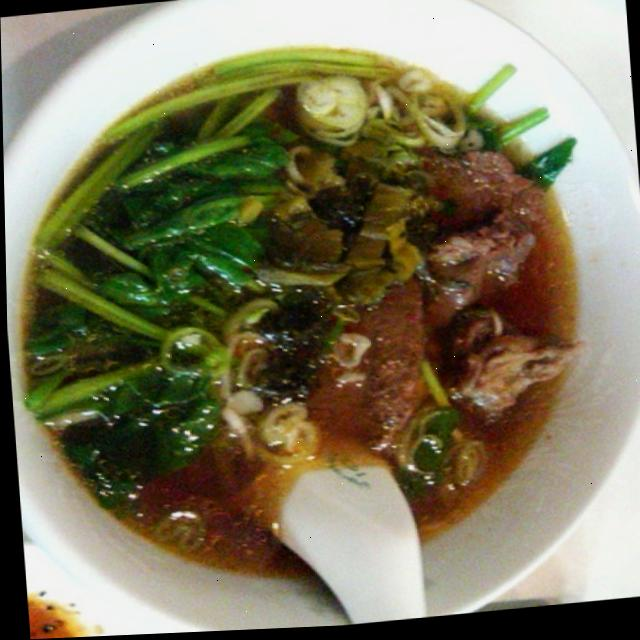面条主食: (3, 17, 604, 629)
